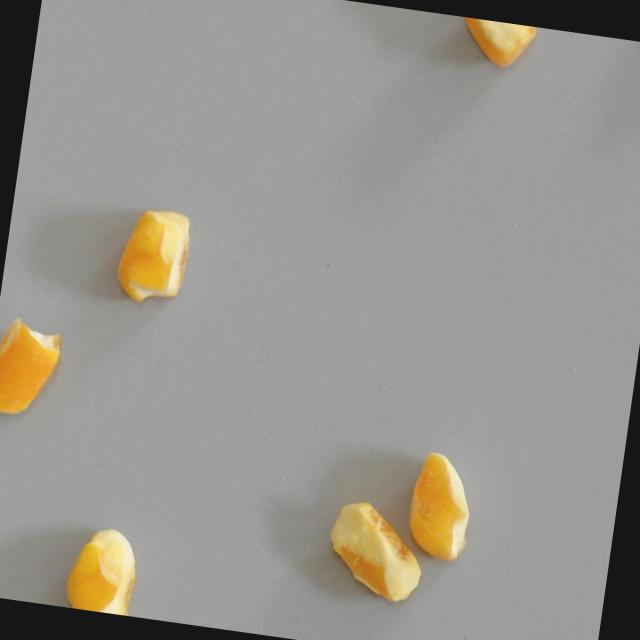estandar: (113, 202, 194, 308), (61, 522, 143, 617)
pelicula: (318, 498, 431, 607), (402, 447, 478, 564), (0, 315, 63, 421), (457, 17, 537, 70)
